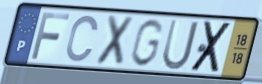C: (64, 13, 101, 64)
F: (29, 10, 73, 61)
G: (128, 17, 166, 69)
U: (160, 17, 201, 72)
X: (188, 20, 235, 74), (93, 13, 137, 69)
